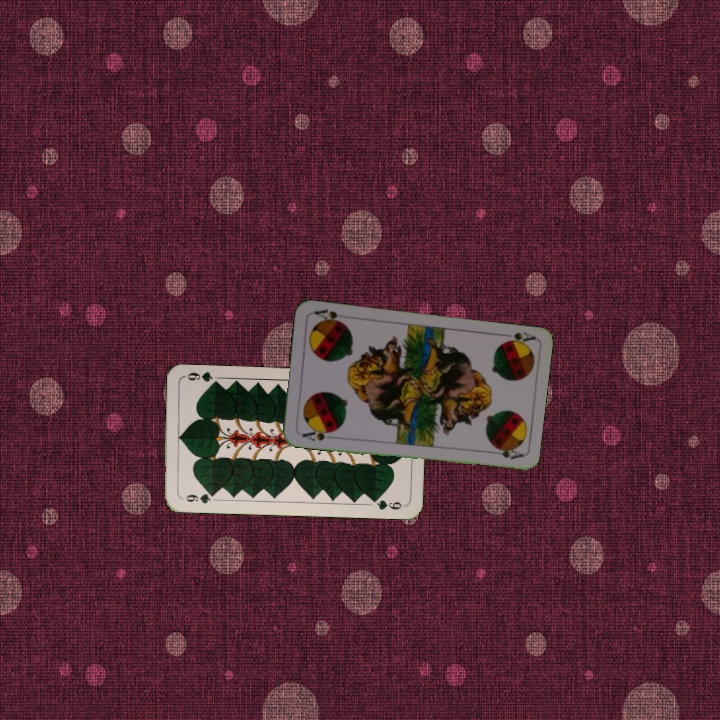G9: (178, 489, 218, 506)
SA: (497, 328, 537, 348), (298, 424, 336, 444)
